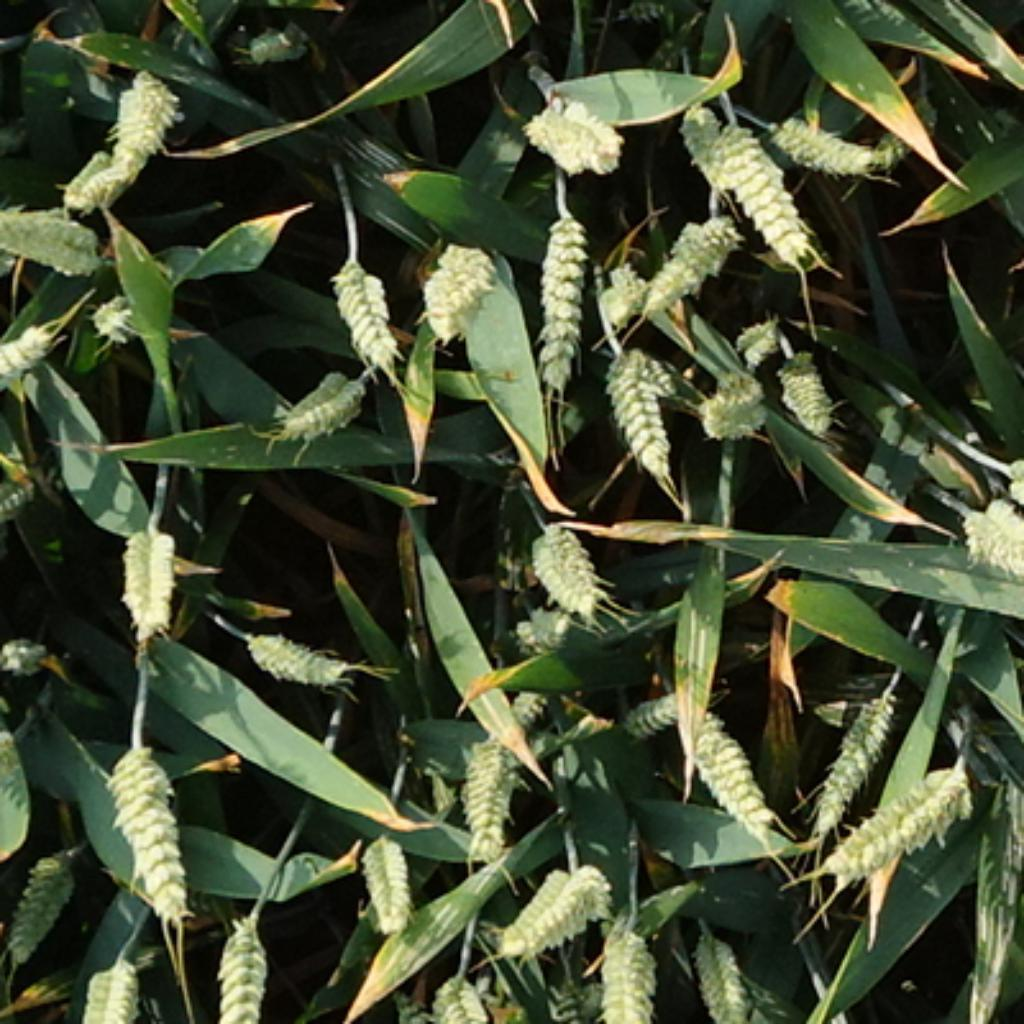0-0: (675, 94, 814, 253), (825, 760, 976, 885), (455, 683, 547, 883), (97, 744, 202, 919), (668, 683, 773, 842), (811, 670, 908, 819), (527, 202, 593, 384), (491, 855, 609, 954), (596, 330, 675, 471), (99, 66, 184, 184), (2, 847, 87, 965), (645, 199, 742, 302), (517, 79, 627, 168), (519, 506, 604, 611), (325, 261, 404, 373), (112, 512, 184, 629), (238, 611, 350, 686), (271, 355, 373, 437), (417, 230, 499, 330), (2, 194, 104, 273), (765, 107, 883, 174), (591, 913, 660, 1021), (686, 921, 755, 1018), (355, 832, 419, 936), (209, 918, 272, 1023), (870, 89, 936, 189), (957, 488, 1024, 586), (693, 360, 773, 437), (775, 343, 837, 430), (616, 675, 686, 737), (56, 153, 128, 212), (81, 952, 140, 1024), (2, 317, 66, 381), (509, 593, 578, 647), (596, 266, 647, 327), (87, 281, 140, 337), (622, 345, 675, 399), (0, 635, 55, 686), (430, 975, 483, 1024), (732, 309, 783, 358), (549, 984, 611, 1024)
